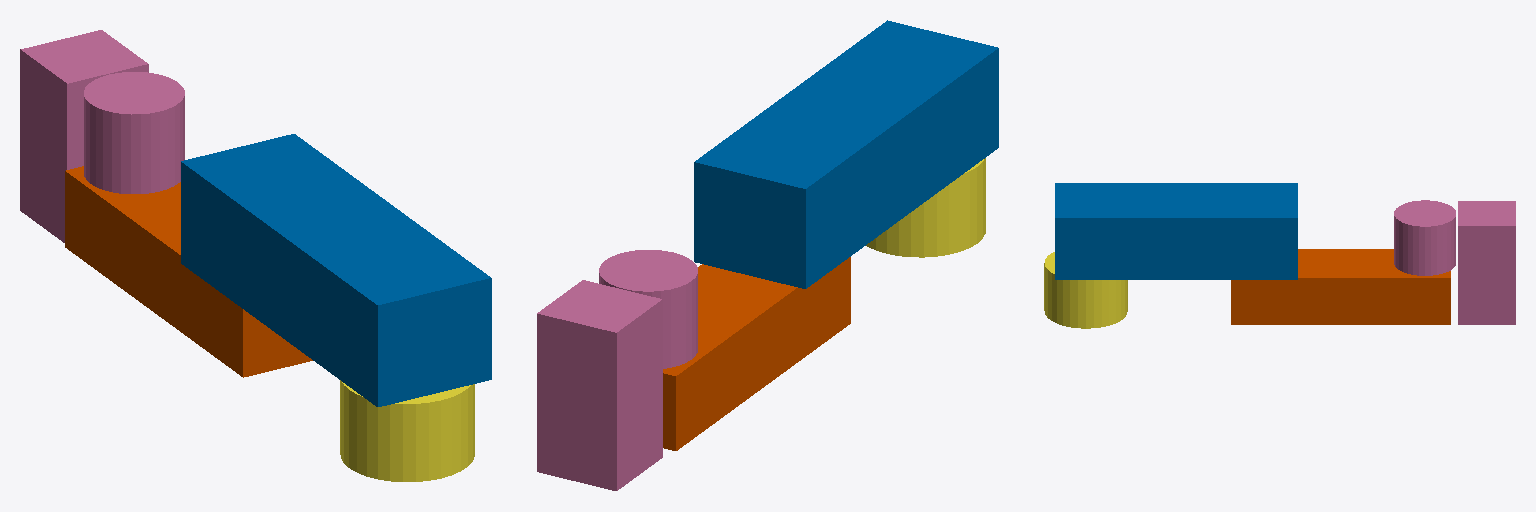
robot.urdf — robot:
<?xml version="1.0"?>
<robot name="robot">
    <link name="base_link">
    </link>
    <joint name="base_link_base_robot_joint" type="fixed">
        <parent link="base_link"/>
        <child link="base_robot"/>
        <origin xyz="0.0 0.0 0.0" rpy="0 0 0"/>
    </joint>
    <link name="base_robot">
    </link>
    <link name="slider">
    </link>
    <joint name="base_robot_slider_joint" type="fixed">
        <parent link="base_robot"/>
        <child link="slider"/>
        <origin xyz="0 0 0" rpy="0 -1.5707953 0"/>
    </joint>
    <joint name="linear_actuator" type="prismatic">
        <parent link="slider"/>
        <child link="slider_arm"/>
        <axis xyz="-1 -2.368514e-06 4.1005696e-06"/>
        <origin xyz="0 0 0.02" rpy="-0.5237906 1.5707916 1.0470034"/>
        <limit effort="180" lower="0" upper="0.4" velocity="10"/>
    </joint>
    <link name="slider_arm">
        <visual>
            <origin xyz="0.032 0.023 0.07" rpy="1.5707963 0 0"/>
            <geometry>
                <cylinder radius="0.036" length="0.046"/>
            </geometry>
        </visual>
        <collision>
            <origin xyz="0.032 0.023 0.07" rpy="1.5707963 0 0"/>
            <geometry>
                <cylinder radius="0.036" length="0.046"/>
            </geometry>
        </collision>
    </link>
    <joint name="arm2" type="revolute">
        <parent link="slider_arm"/>
        <child link="link_2"/>
        <axis xyz="0 -1 0"/>
        <limit effort="9.5" lower="-1.13446" upper="1.5708" velocity="1.5708"/>
        <origin xyz="0.033 0 0.07" rpy="0 0 0"/>
    </joint>
    <link name="link_2">
        <visual>
            <origin xyz="0 -0.03 0.078" rpy="0 0 0"/>
            <geometry>
                <box size="0.07 0.06 0.21"/>
            </geometry>
        </visual>
        <collision>
            <origin xyz="0 -0.03 0.078" rpy="0 0 0"/>
            <geometry>
                <box size="0.07 0.06 0.21"/>
            </geometry>
        </collision>
    </link>
    <joint name="arm3" type="revolute">
        <parent link="link_2"/>
        <child link="link_3"/>
        <axis xyz="0 -1 0"/>
        <limit effort="6" lower="-2.63545" upper="2.54818" velocity="1.5708"/>
        <origin xyz="0 0 0.155" rpy="0 0 0"/>
    </joint>
    <link name="link_3">
        <visual>
            <origin xyz="0 0.0225 0.065" rpy="0 0 0"/>
            <geometry>
                <box size="0.06 0.045 0.19"/>
            </geometry>
        </visual>
        <collision>
            <origin xyz="0 0.0225 0.065" rpy="0 0 0"/>
            <geometry>
                <box size="0.06 0.045 0.19"/>
            </geometry>
        </collision>
    </link>
    <joint name="arm4" type="revolute">
        <parent link="link_3"/>
        <child link="link_4"/>
        <axis xyz="0 -1 0"/>
        <limit effort="6" lower="-1.78024" upper="1.78024" velocity="1.5708"/>
        <origin xyz="0 0 0.135" rpy="0 0 0"/>
    </joint>
    <link name="link_4">
        <visual>
            <origin xyz="0 0 0.056" rpy="0 0 0"/>
            <geometry>
                <box size="0.05 0.095 0.05"/>
            </geometry>
        </visual>
        <collision>
            <origin xyz="0 0 0.056" rpy="0 0 0"/>
            <geometry>
                <box size="0.05 0.095 0.05"/>
            </geometry>
        </collision>
        <visual>
            <origin xyz="0 -0.024 0.003" rpy="1.5707963 0 0"/>
            <geometry>
                <cylinder radius="0.027" length="0.047"/>
            </geometry>
        </visual>
        <collision>
            <origin xyz="0 -0.024 0.003" rpy="1.5707963 0 0"/>
            <geometry>
                <cylinder radius="0.027" length="0.047"/>
            </geometry>
        </collision>
    </link>
    <joint name="arm5" type="revolute">
        <parent link="link_4"/>
        <child link="link_5"/>
        <axis xyz="0 0 1"/>
        <limit effort="2.23" lower="-2.92343" upper="2.92343" velocity="1.5708"/>
        <origin xyz="0 0 0.081" rpy="0 0 0"/>
    </joint>
    <link name="link_5">
    </link>
    <link name="solid_1010555">
    </link>
    <joint name="slider_solid_1010555_joint" type="fixed">
        <parent link="slider"/>
        <child link="solid_1010555"/>
        <origin xyz="0 -0.019999964 0.25000006" rpy="1.5708 0 0"/>
    </joint>
</robot>

--- Render facts (derived) ---
3 views of the same robot in one strip: view 1: azimuth 30°, elevation 25°; view 2: azimuth 150°, elevation 25°; view 3: azimuth 270°, elevation 25° (orthographic).
Robot: robot — 9 links, 8 joints (4 revolute, 1 prismatic, 3 fixed); root link base_link; default pose: all joints at 0.
Links seen in each view (by area): view 1: link_2, link_4, link_3, slider_arm; view 2: link_2, link_4, link_3, slider_arm; view 3: link_2, link_3, link_4, slider_arm.
Link boxes in pixels (x1,y1,x2,y2): link_2: (181, 134, 491, 406); link_4: (20, 30, 184, 242); link_3: (65, 166, 312, 377); slider_arm: (340, 380, 474, 481); link_2: (694, 20, 998, 288); link_4: (537, 250, 697, 490); link_3: (663, 257, 850, 450); slider_arm: (866, 158, 985, 257); link_2: (1055, 183, 1297, 279); link_3: (1231, 249, 1450, 324); link_4: (1394, 200, 1515, 324); slider_arm: (1044, 252, 1127, 328).
Size in the robot's own frame: 0.072 by 0.407 by 0.1075 metres.
Geometry: primitives only (box / cylinder / sphere), no mesh files.